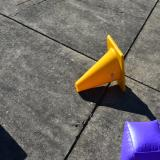cone: (75, 34, 126, 92)
cube: (120, 119, 160, 160)
